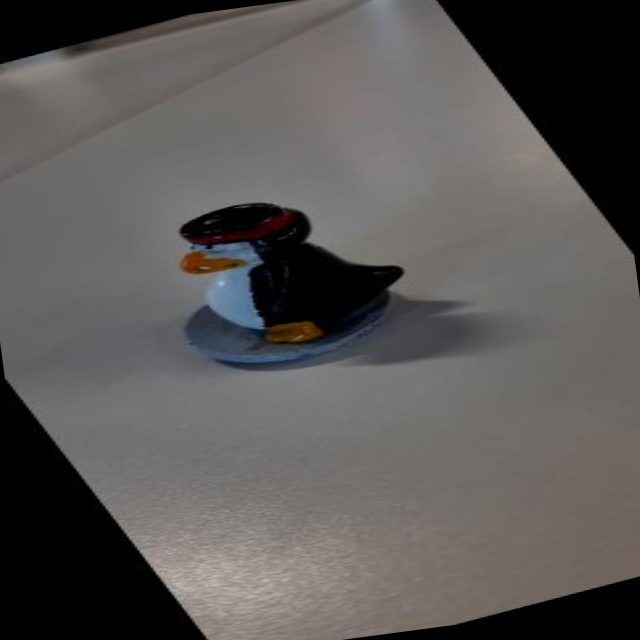Penguin: (64, 137, 475, 414)
